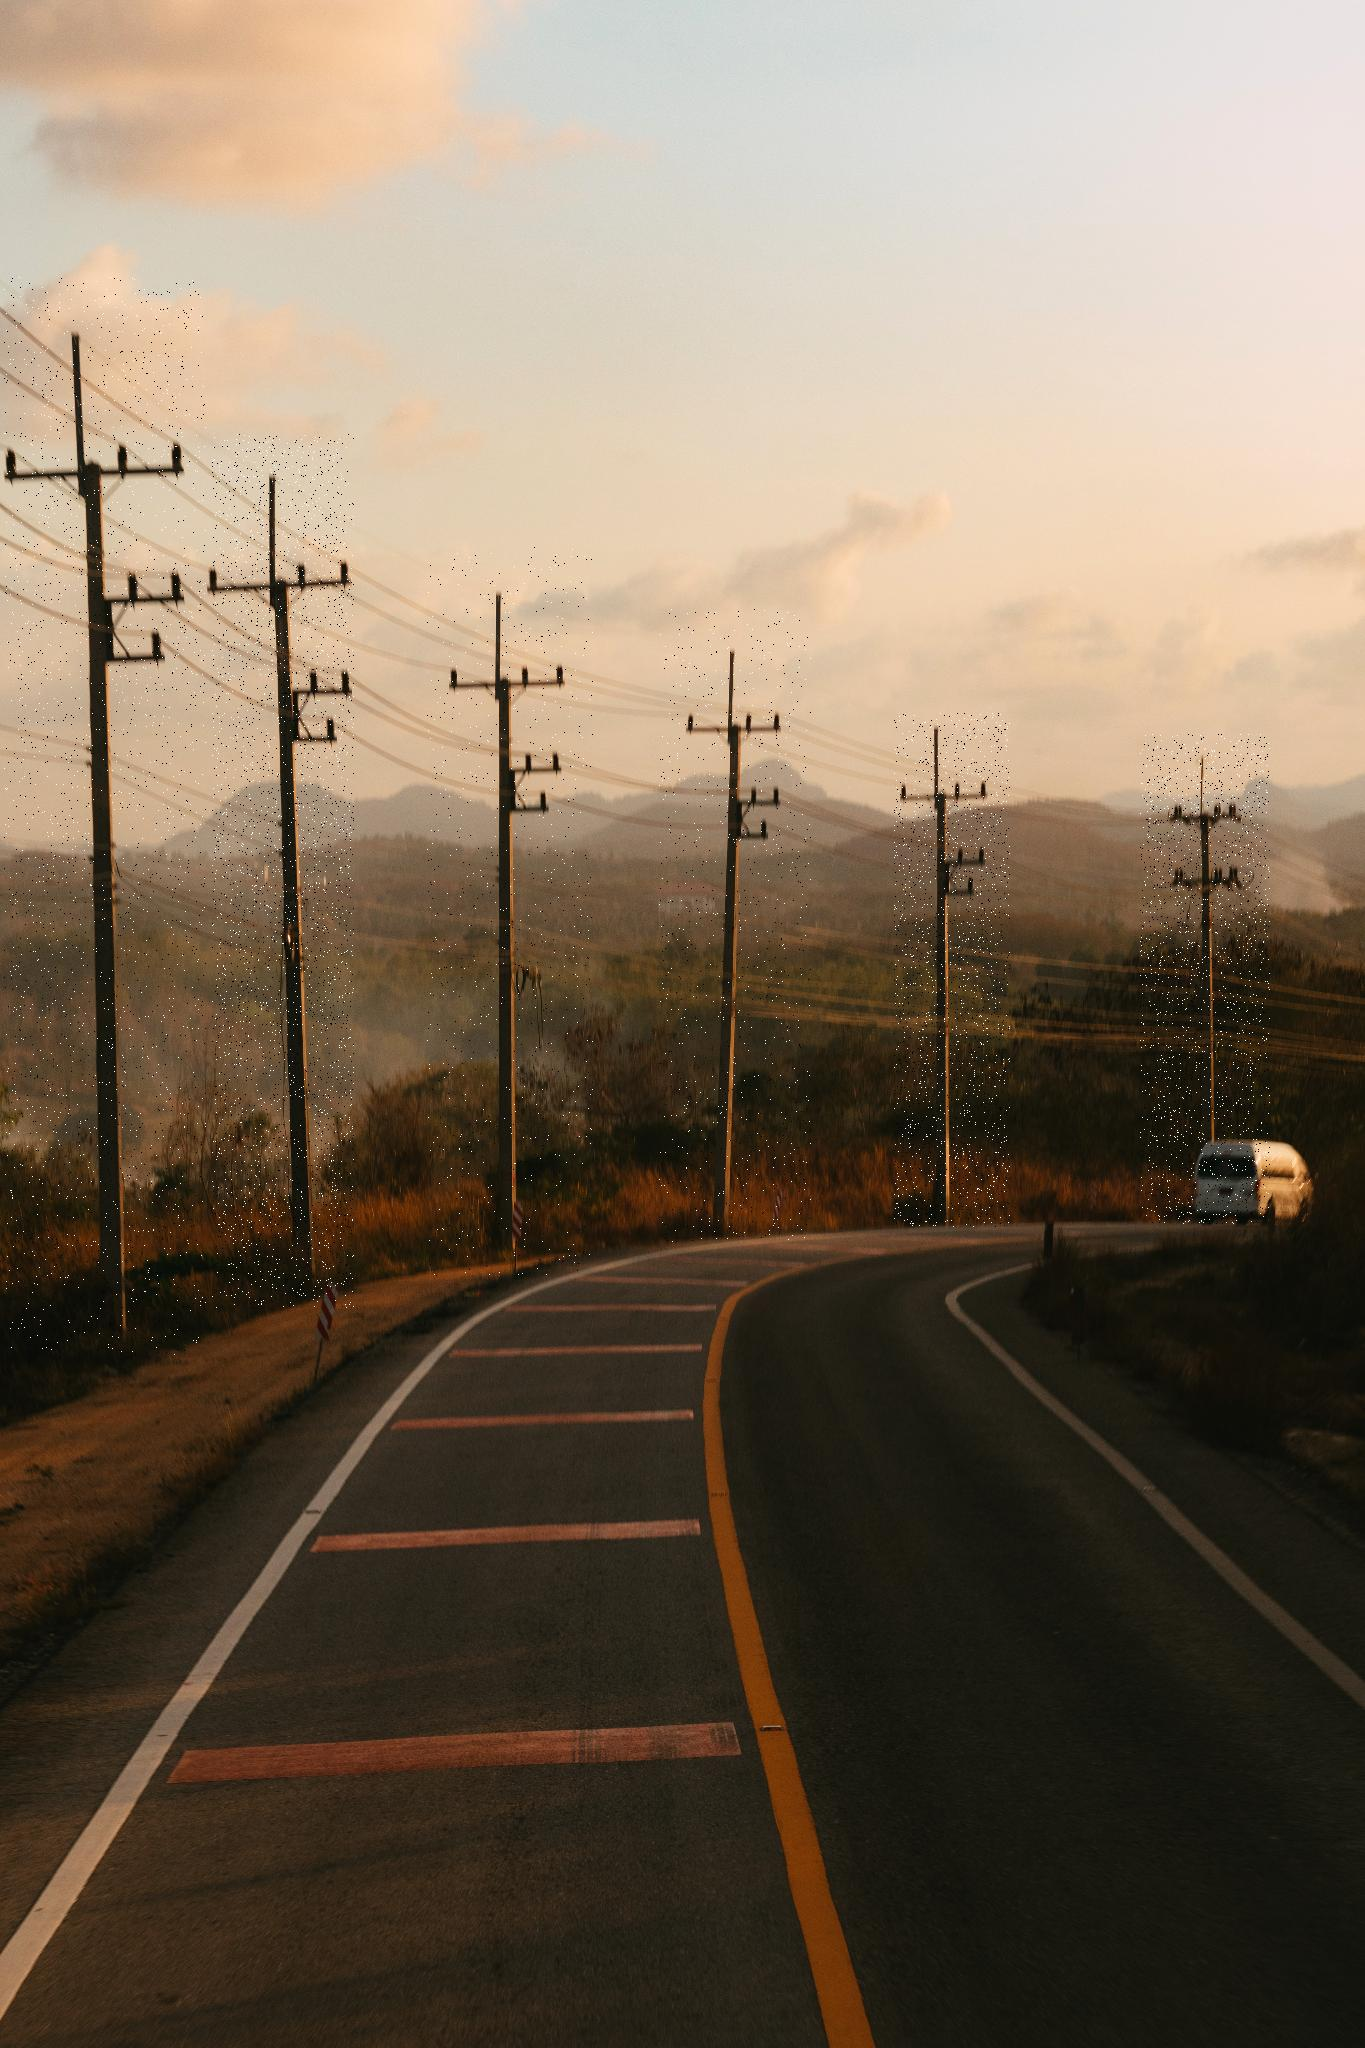cable tower: (5, 277, 206, 1355), (212, 434, 353, 1308), (427, 547, 593, 1278), (660, 608, 810, 1243), (1140, 734, 1271, 1224), (894, 713, 1010, 1227)
